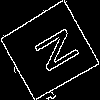N: (24, 25, 82, 79)
